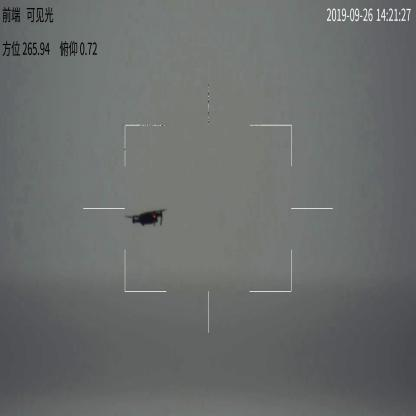uav: (125, 202, 167, 232)
